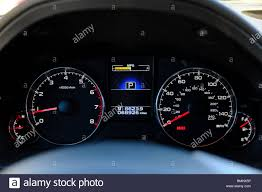Digital_Meter: (116, 106, 151, 117)
